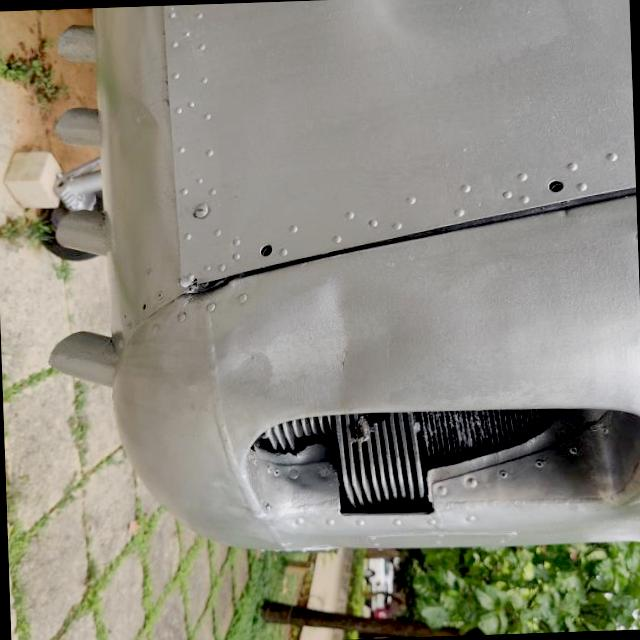Missing Fastener: (548, 178, 564, 191), (260, 242, 274, 255)
dent: (255, 270, 392, 422)
